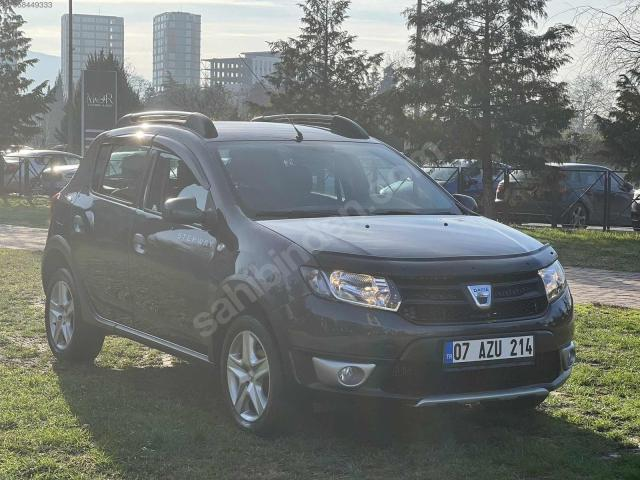plaka: (446, 336, 534, 363)
